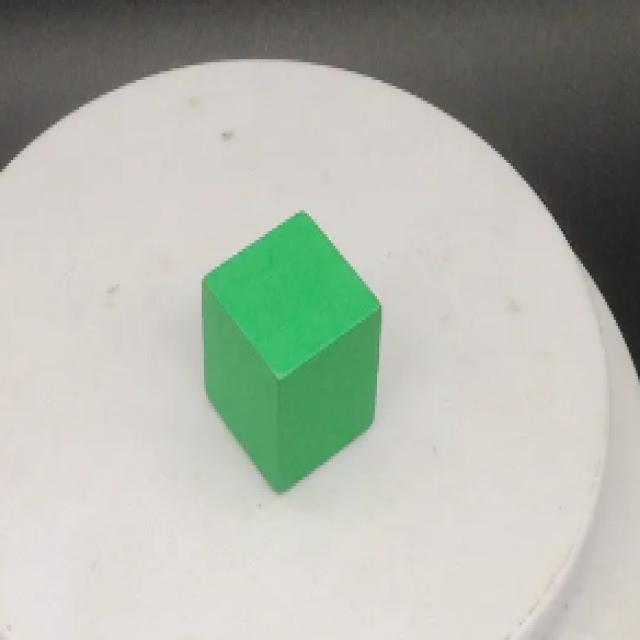green cube: (200, 205, 384, 496)
